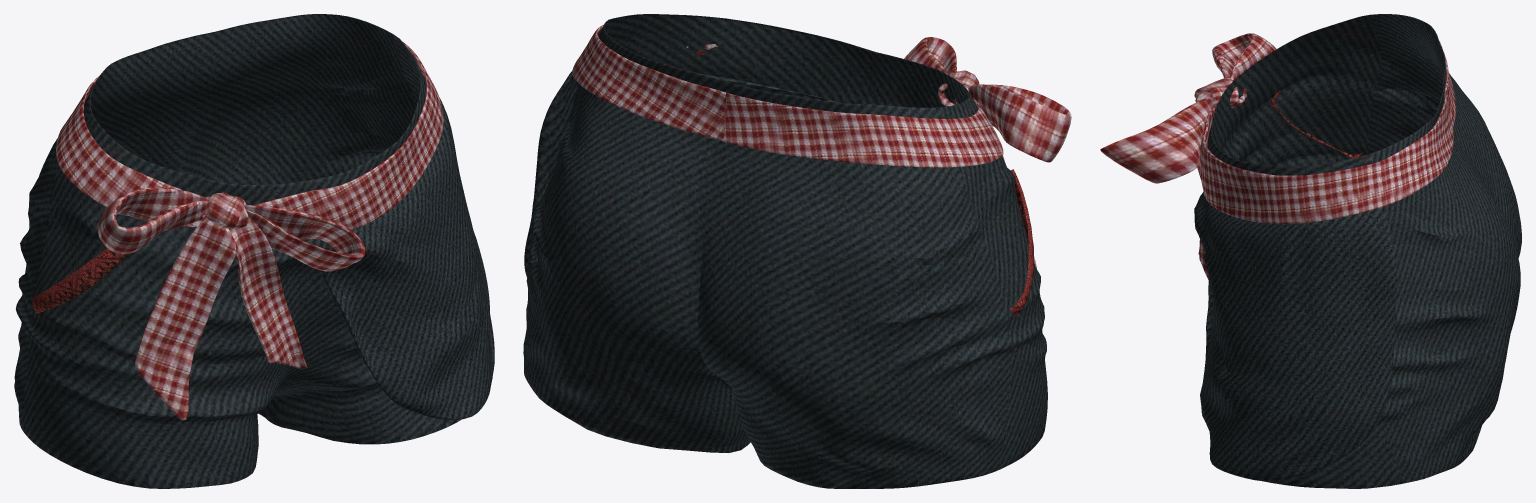
The model's file is elvs-retro-girly-shorts1.glb.
3 views of the same model, side by side, from view 1: azimuth 30°, elevation 25°; view 2: azimuth 150°, elevation 25°; view 3: azimuth 270°, elevation 25° (orthographic). The views are drawn at different scales.
Parts seen in each view (by area): view 1: retro girly shorts; view 2: retro girly shorts; view 3: retro girly shorts.
Part boxes in pixels (box(x1,y1,x2,y2)): retro girly shorts: box(14, 14, 494, 488); retro girly shorts: box(523, 14, 1071, 488); retro girly shorts: box(1100, 14, 1521, 488).
Size of the model in its own units: 39.2 by 29.78 by 33.48.
1 material, 1 textured.
